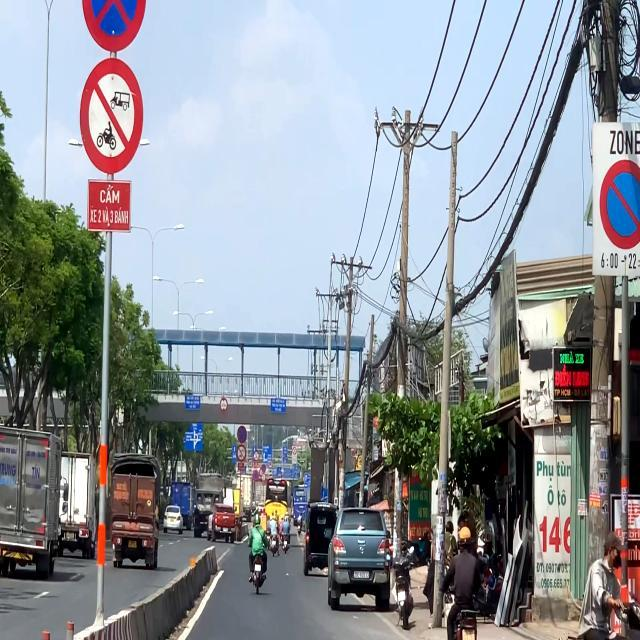P-104: (80, 57, 145, 174)
